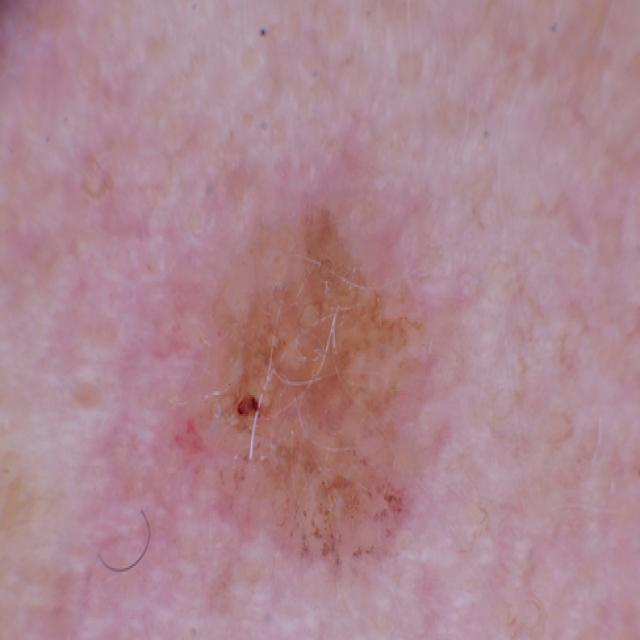Keratosis: (108, 133, 496, 635)
